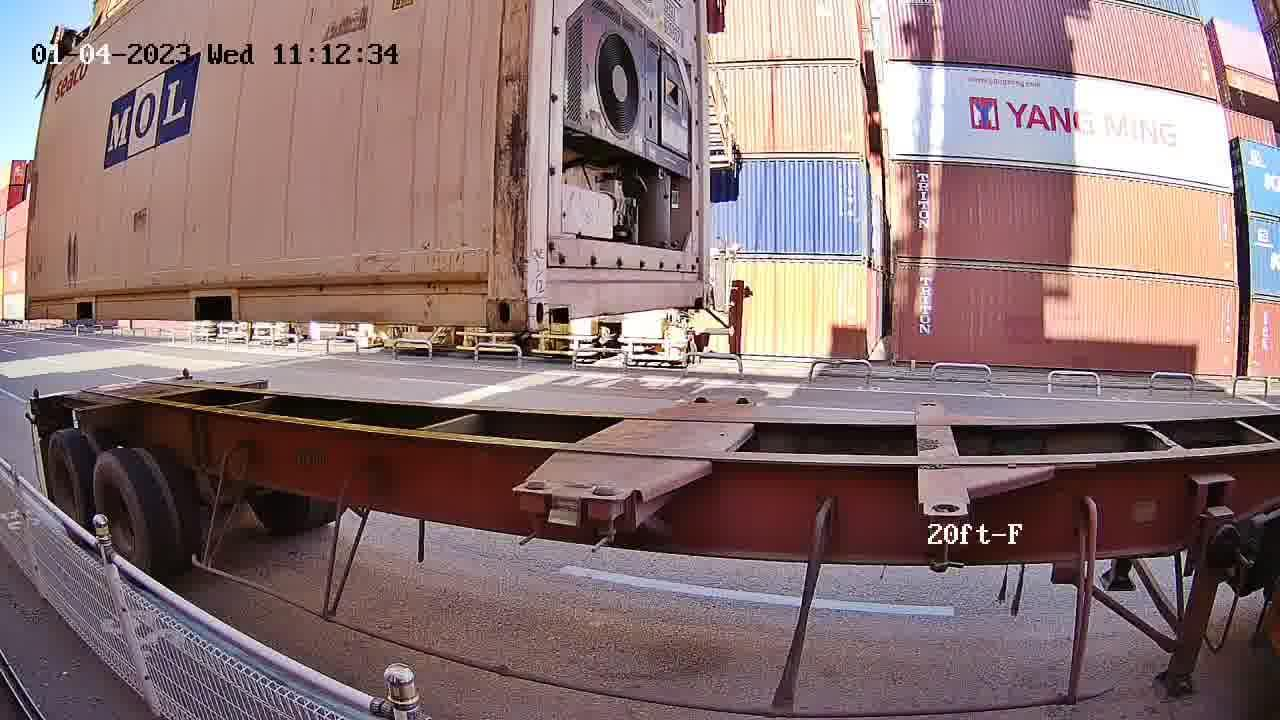Chassis: (516, 398, 714, 492), (591, 399, 755, 496)
Cone: (588, 485, 626, 545), (517, 479, 552, 539)
Hole_L: (527, 271, 579, 332)
Hole_R: (458, 270, 527, 334), (688, 275, 711, 309)
Tire: (91, 453, 147, 576), (45, 433, 88, 545)
